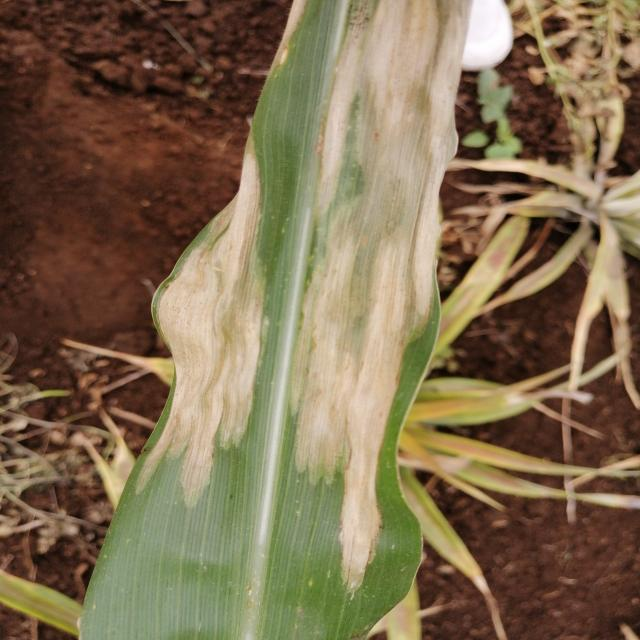Corn_Leaf_Blight: (137, 0, 450, 640)
